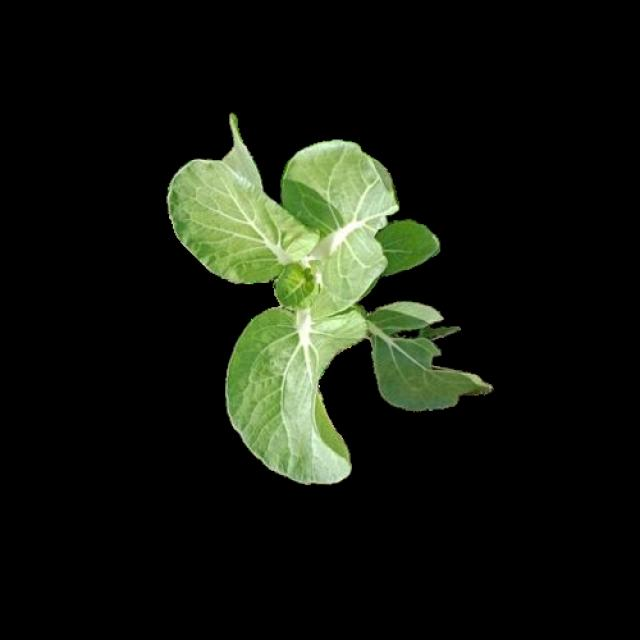not-mature: (169, 111, 494, 482)
unhealthy: (372, 298, 492, 412)
